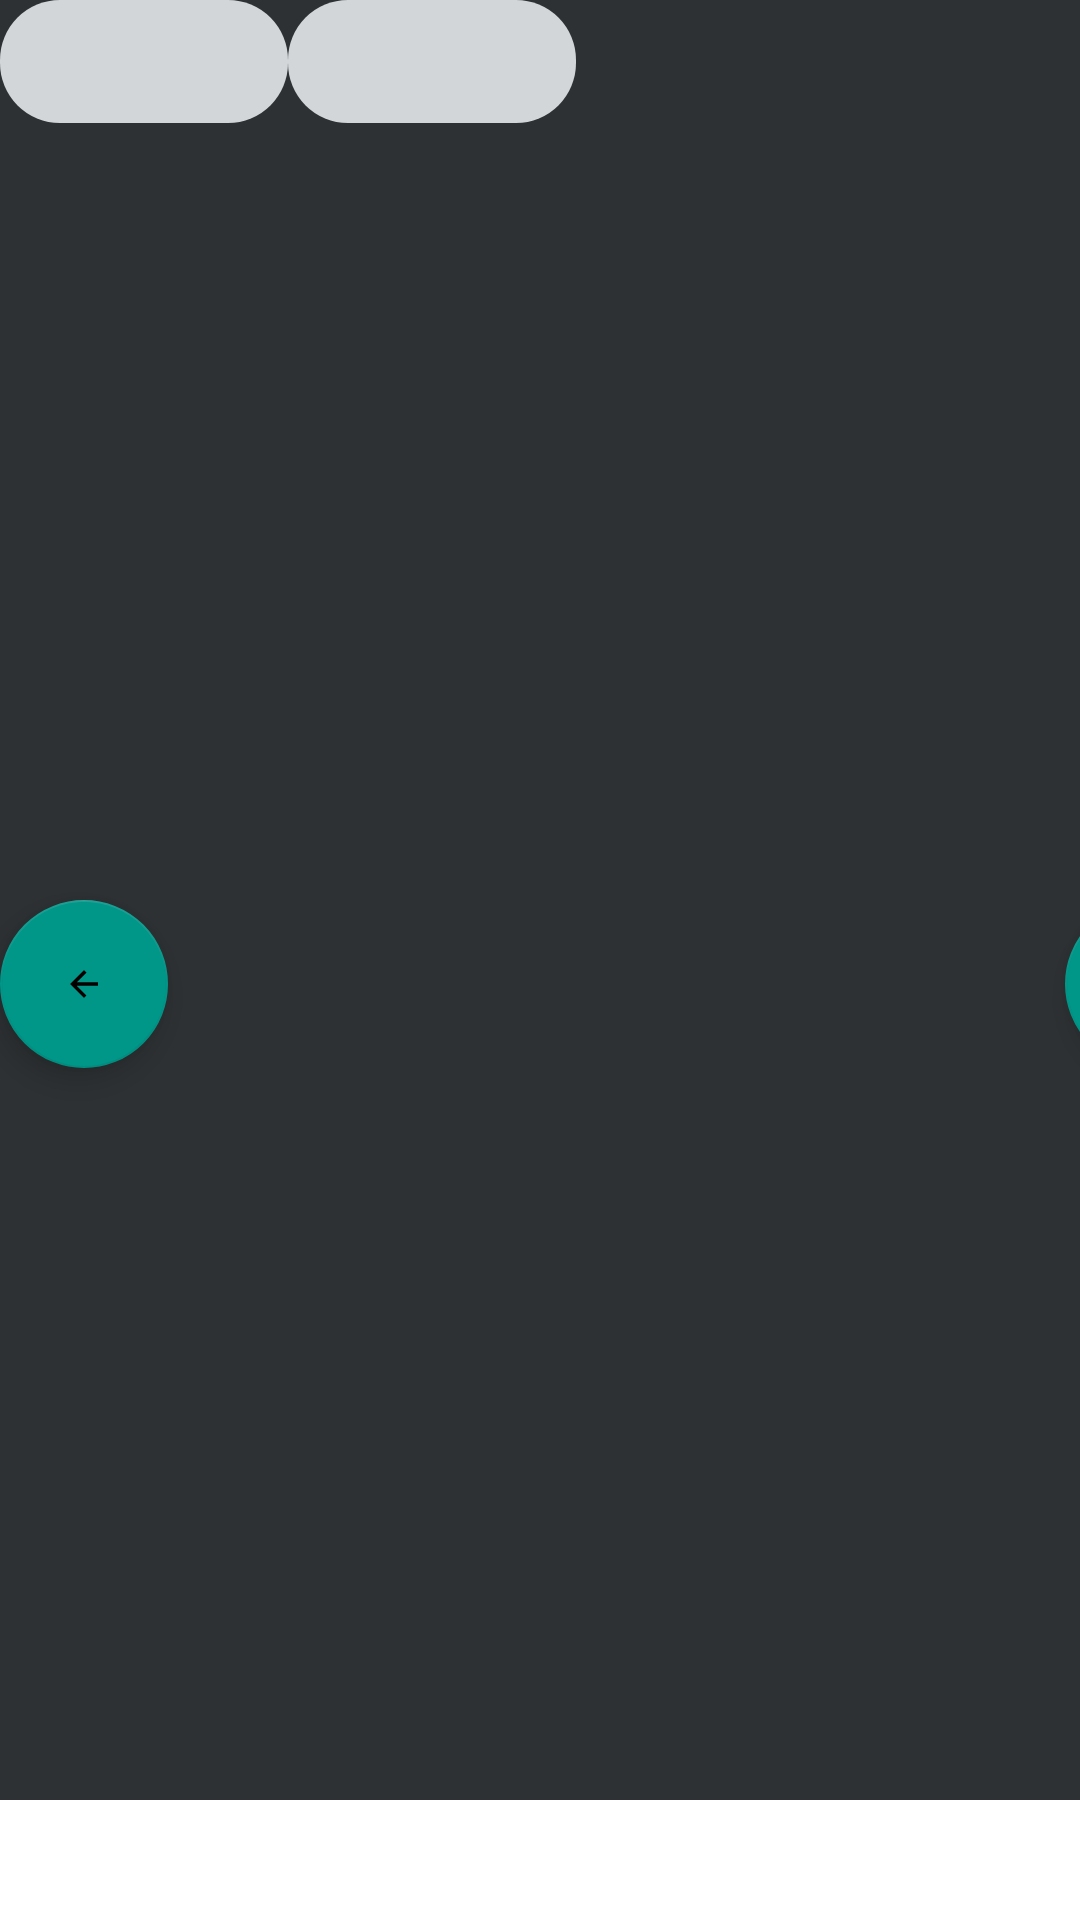

Icons on this 1080*1920 Android screen, each with the point to tap as (x=x, y=y):
backbutton: (x=84, y=984)
